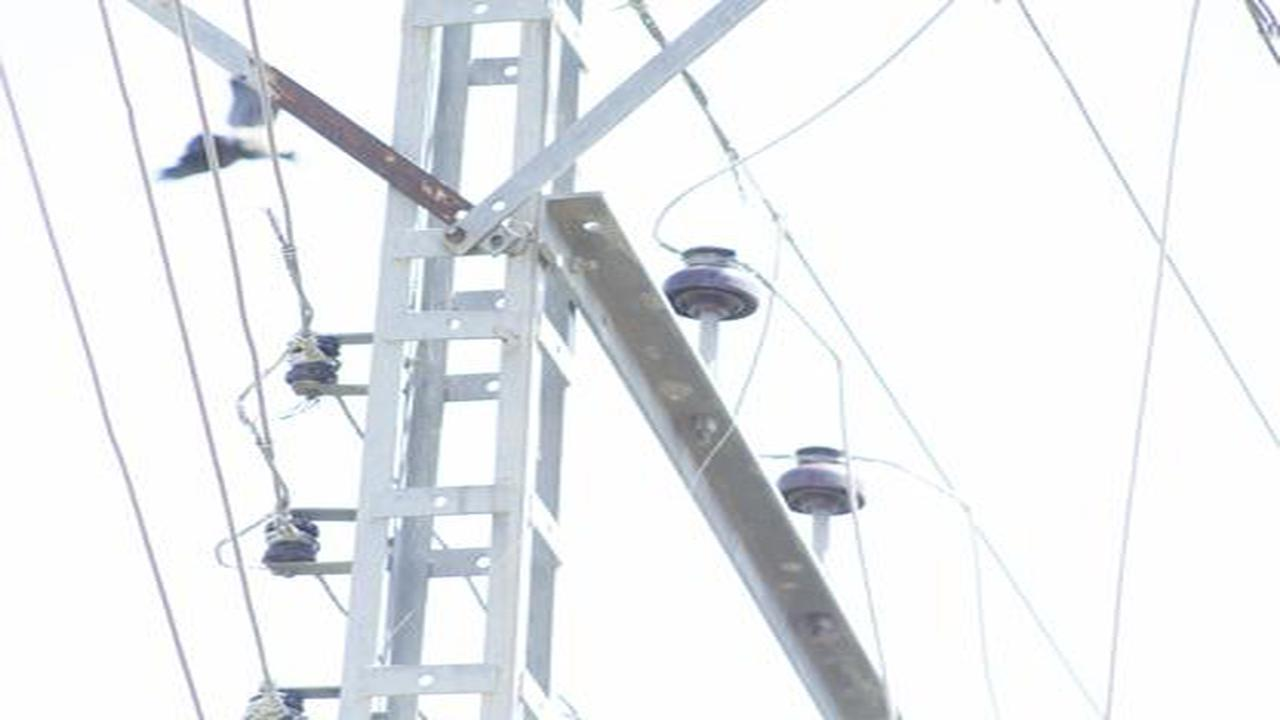insulator_pin: (774, 443, 872, 528), (664, 244, 764, 325)
